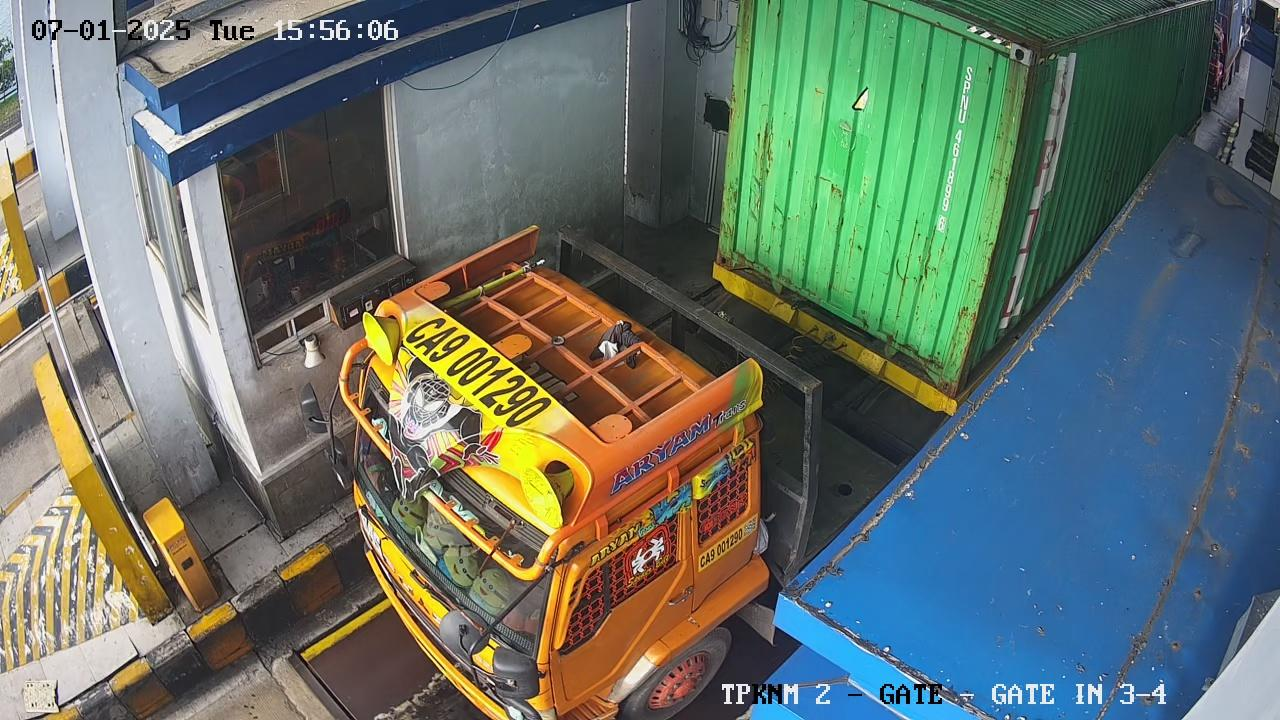Container_ID_Vertikal: (924, 58, 1008, 260)
truck_id: (378, 293, 579, 462), (689, 513, 768, 573), (752, 535, 767, 552)
